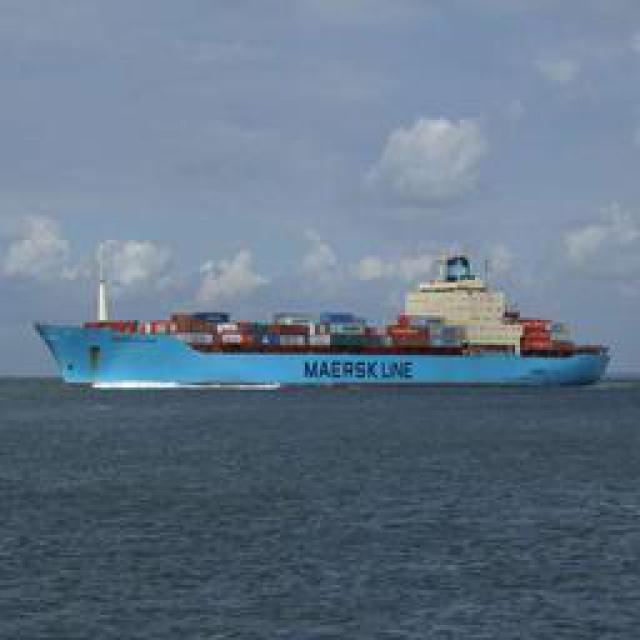Ship: (37, 246, 607, 391)
